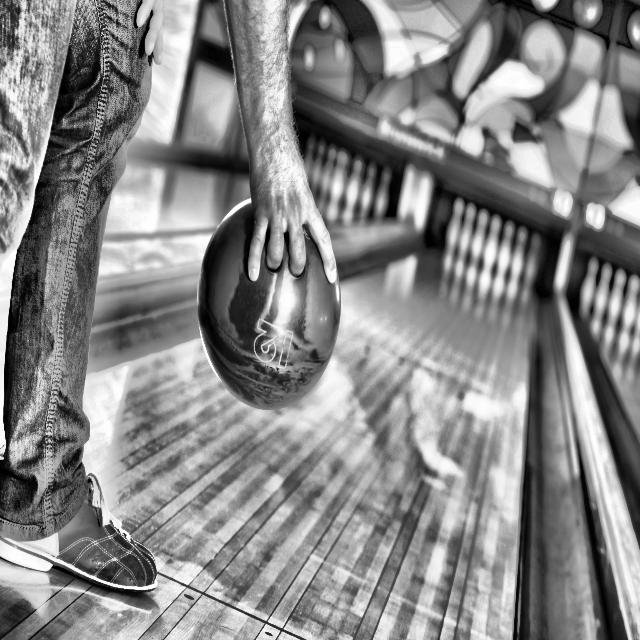bowling-ball: (197, 199, 341, 408)
